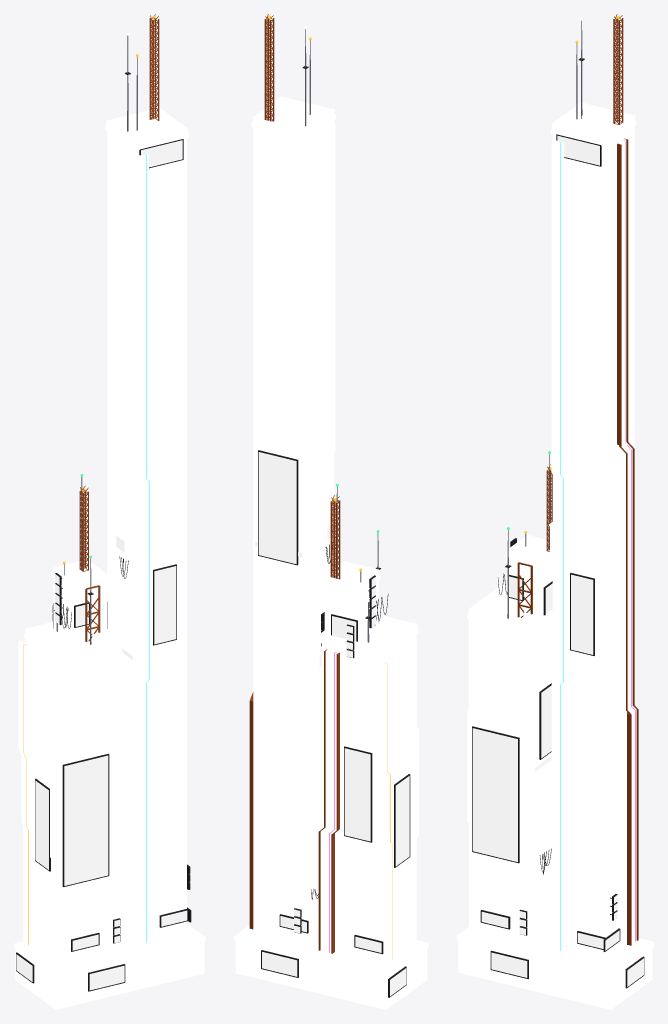
File: k_slab_b.glb
The picture shows the model from 3 angles, left to right: view 1: azimuth 30°, elevation 25°; view 2: azimuth 150°, elevation 25°; view 3: azimuth 330°, elevation 25°; orthographic projection. The views are drawn at different scales.
Parts seen in each view (by area): view 1: kit_mid, kit_grey, kit_dark, screen_atlas, metal_dark, steel_orange, neon_cyan, metal_light; view 2: kit_mid, kit_dark, kit_grey, screen_atlas, steel_orange, metal_dark, metal_light; view 3: kit_mid, kit_grey, kit_dark, screen_atlas, steel_orange, kit_hex, metal_dark, neon_cyan, neon_magenta, metal_light.
Part boxes in pixels (x1=…): kit_mid: x1=15, y1=119, x2=204, y2=1009; kit_grey: x1=14, y1=108, x2=205, y2=977; kit_dark: x1=25, y1=639, x2=119, y2=968; screen_atlas: x1=16, y1=140, x2=187, y2=990; metal_dark: x1=16, y1=72, x2=191, y2=991; steel_orange: x1=79, y1=14, x2=159, y2=641; neon_cyan: x1=145, y1=154, x2=149, y2=942; metal_light: x1=56, y1=35, x2=137, y2=644; kit_mid: x1=235, y1=109, x2=427, y2=1009; kit_dark: x1=321, y1=635, x2=416, y2=968; kit_grey: x1=234, y1=96, x2=428, y2=976; screen_atlas: x1=255, y1=452, x2=409, y2=996; steel_orange: x1=249, y1=14, x2=340, y2=953; metal_dark: x1=258, y1=66, x2=410, y2=997; metal_light: x1=305, y1=29, x2=378, y2=642; kit_mid: x1=458, y1=111, x2=652, y2=1009; kit_grey: x1=457, y1=102, x2=653, y2=976; kit_dark: x1=469, y1=619, x2=552, y2=949; screen_atlas: x1=472, y1=135, x2=643, y2=986; steel_orange: x1=517, y1=14, x2=638, y2=945; kit_hex: x1=617, y1=441, x2=626, y2=748; metal_dark: x1=472, y1=58, x2=644, y2=988; neon_cyan: x1=560, y1=142, x2=563, y2=950; neon_magenta: x1=622, y1=140, x2=635, y2=941; metal_light: x1=507, y1=20, x2=582, y2=618.
Size of the model in its own units: 34.6 by 206 by 16.6.
